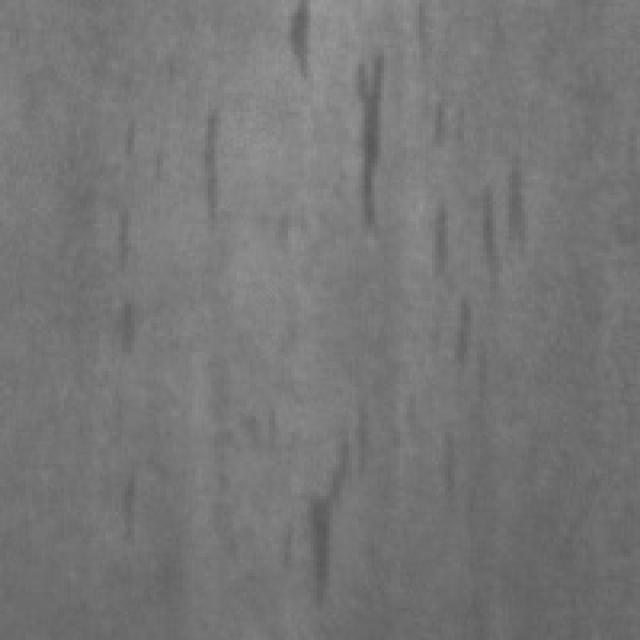inclusion: (413, 96, 531, 362), (294, 397, 404, 595), (340, 45, 390, 243), (432, 285, 490, 451), (180, 96, 230, 237), (278, 0, 320, 83), (102, 285, 144, 368), (109, 461, 147, 550), (102, 195, 138, 272)
